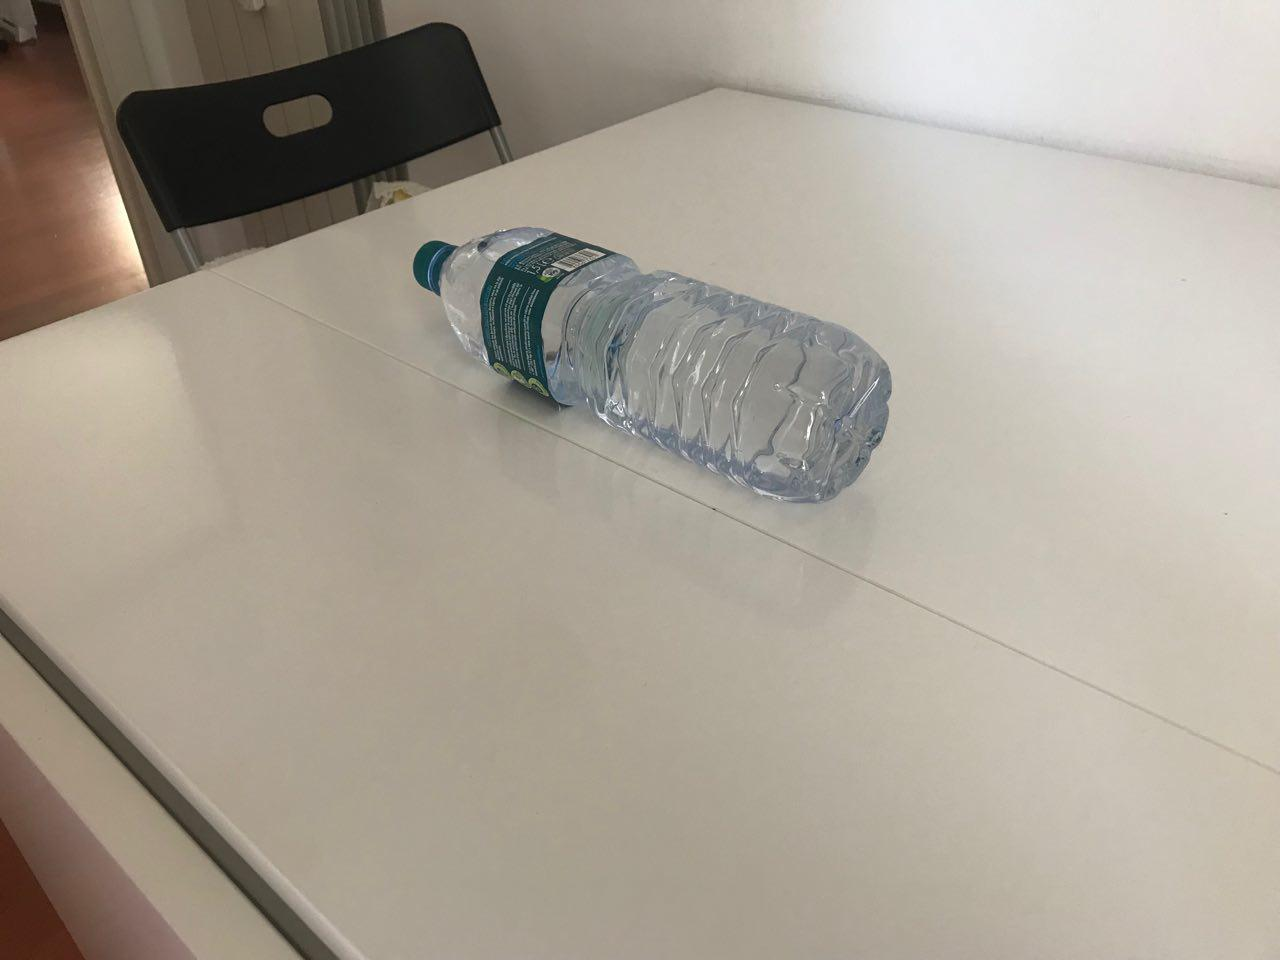san_bernardo: (410, 225, 893, 505)
